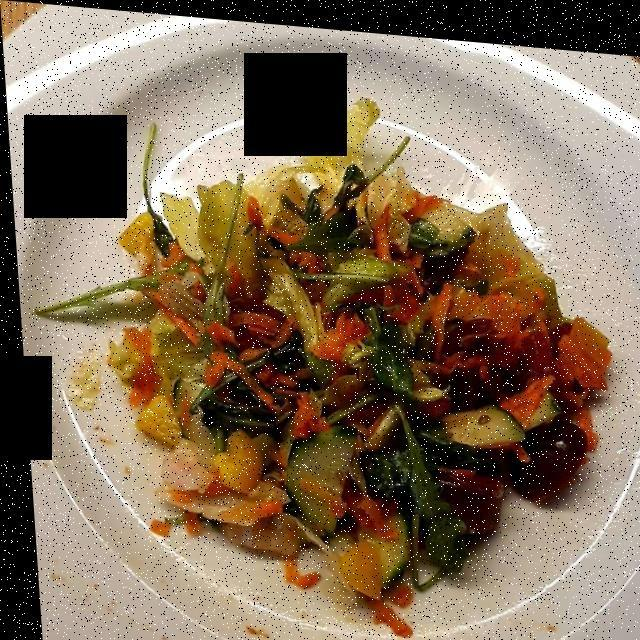mixed-vegetables: (64, 117, 603, 610)
salad: (56, 106, 500, 579)
